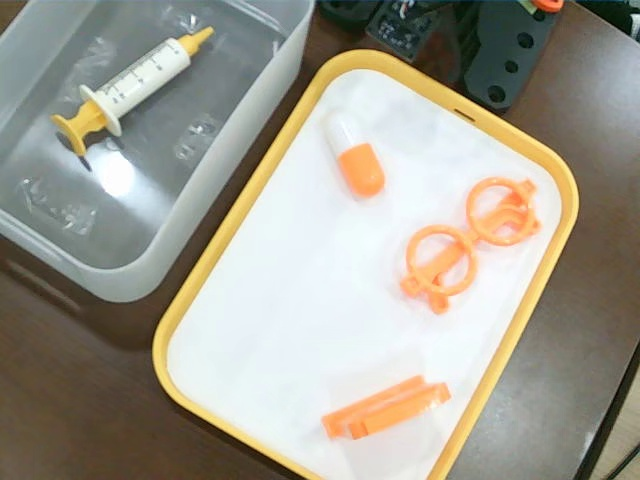pill: (306, 105, 388, 201)
syringe: (51, 25, 216, 162)
